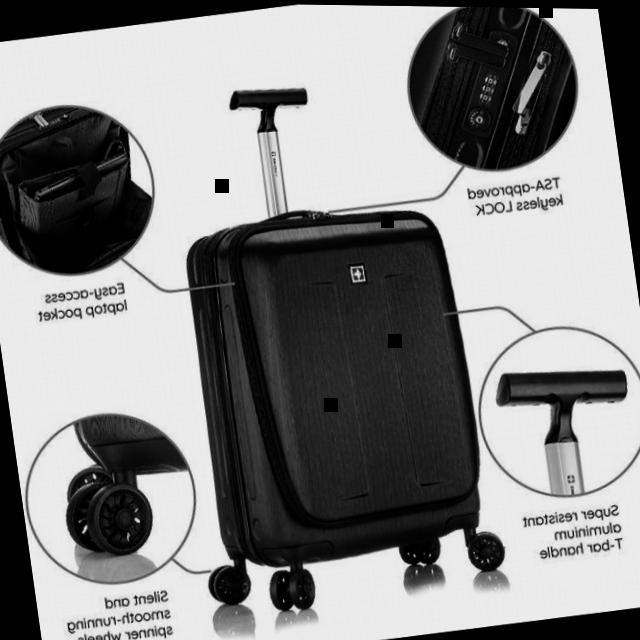luggage: (167, 180, 509, 583)
